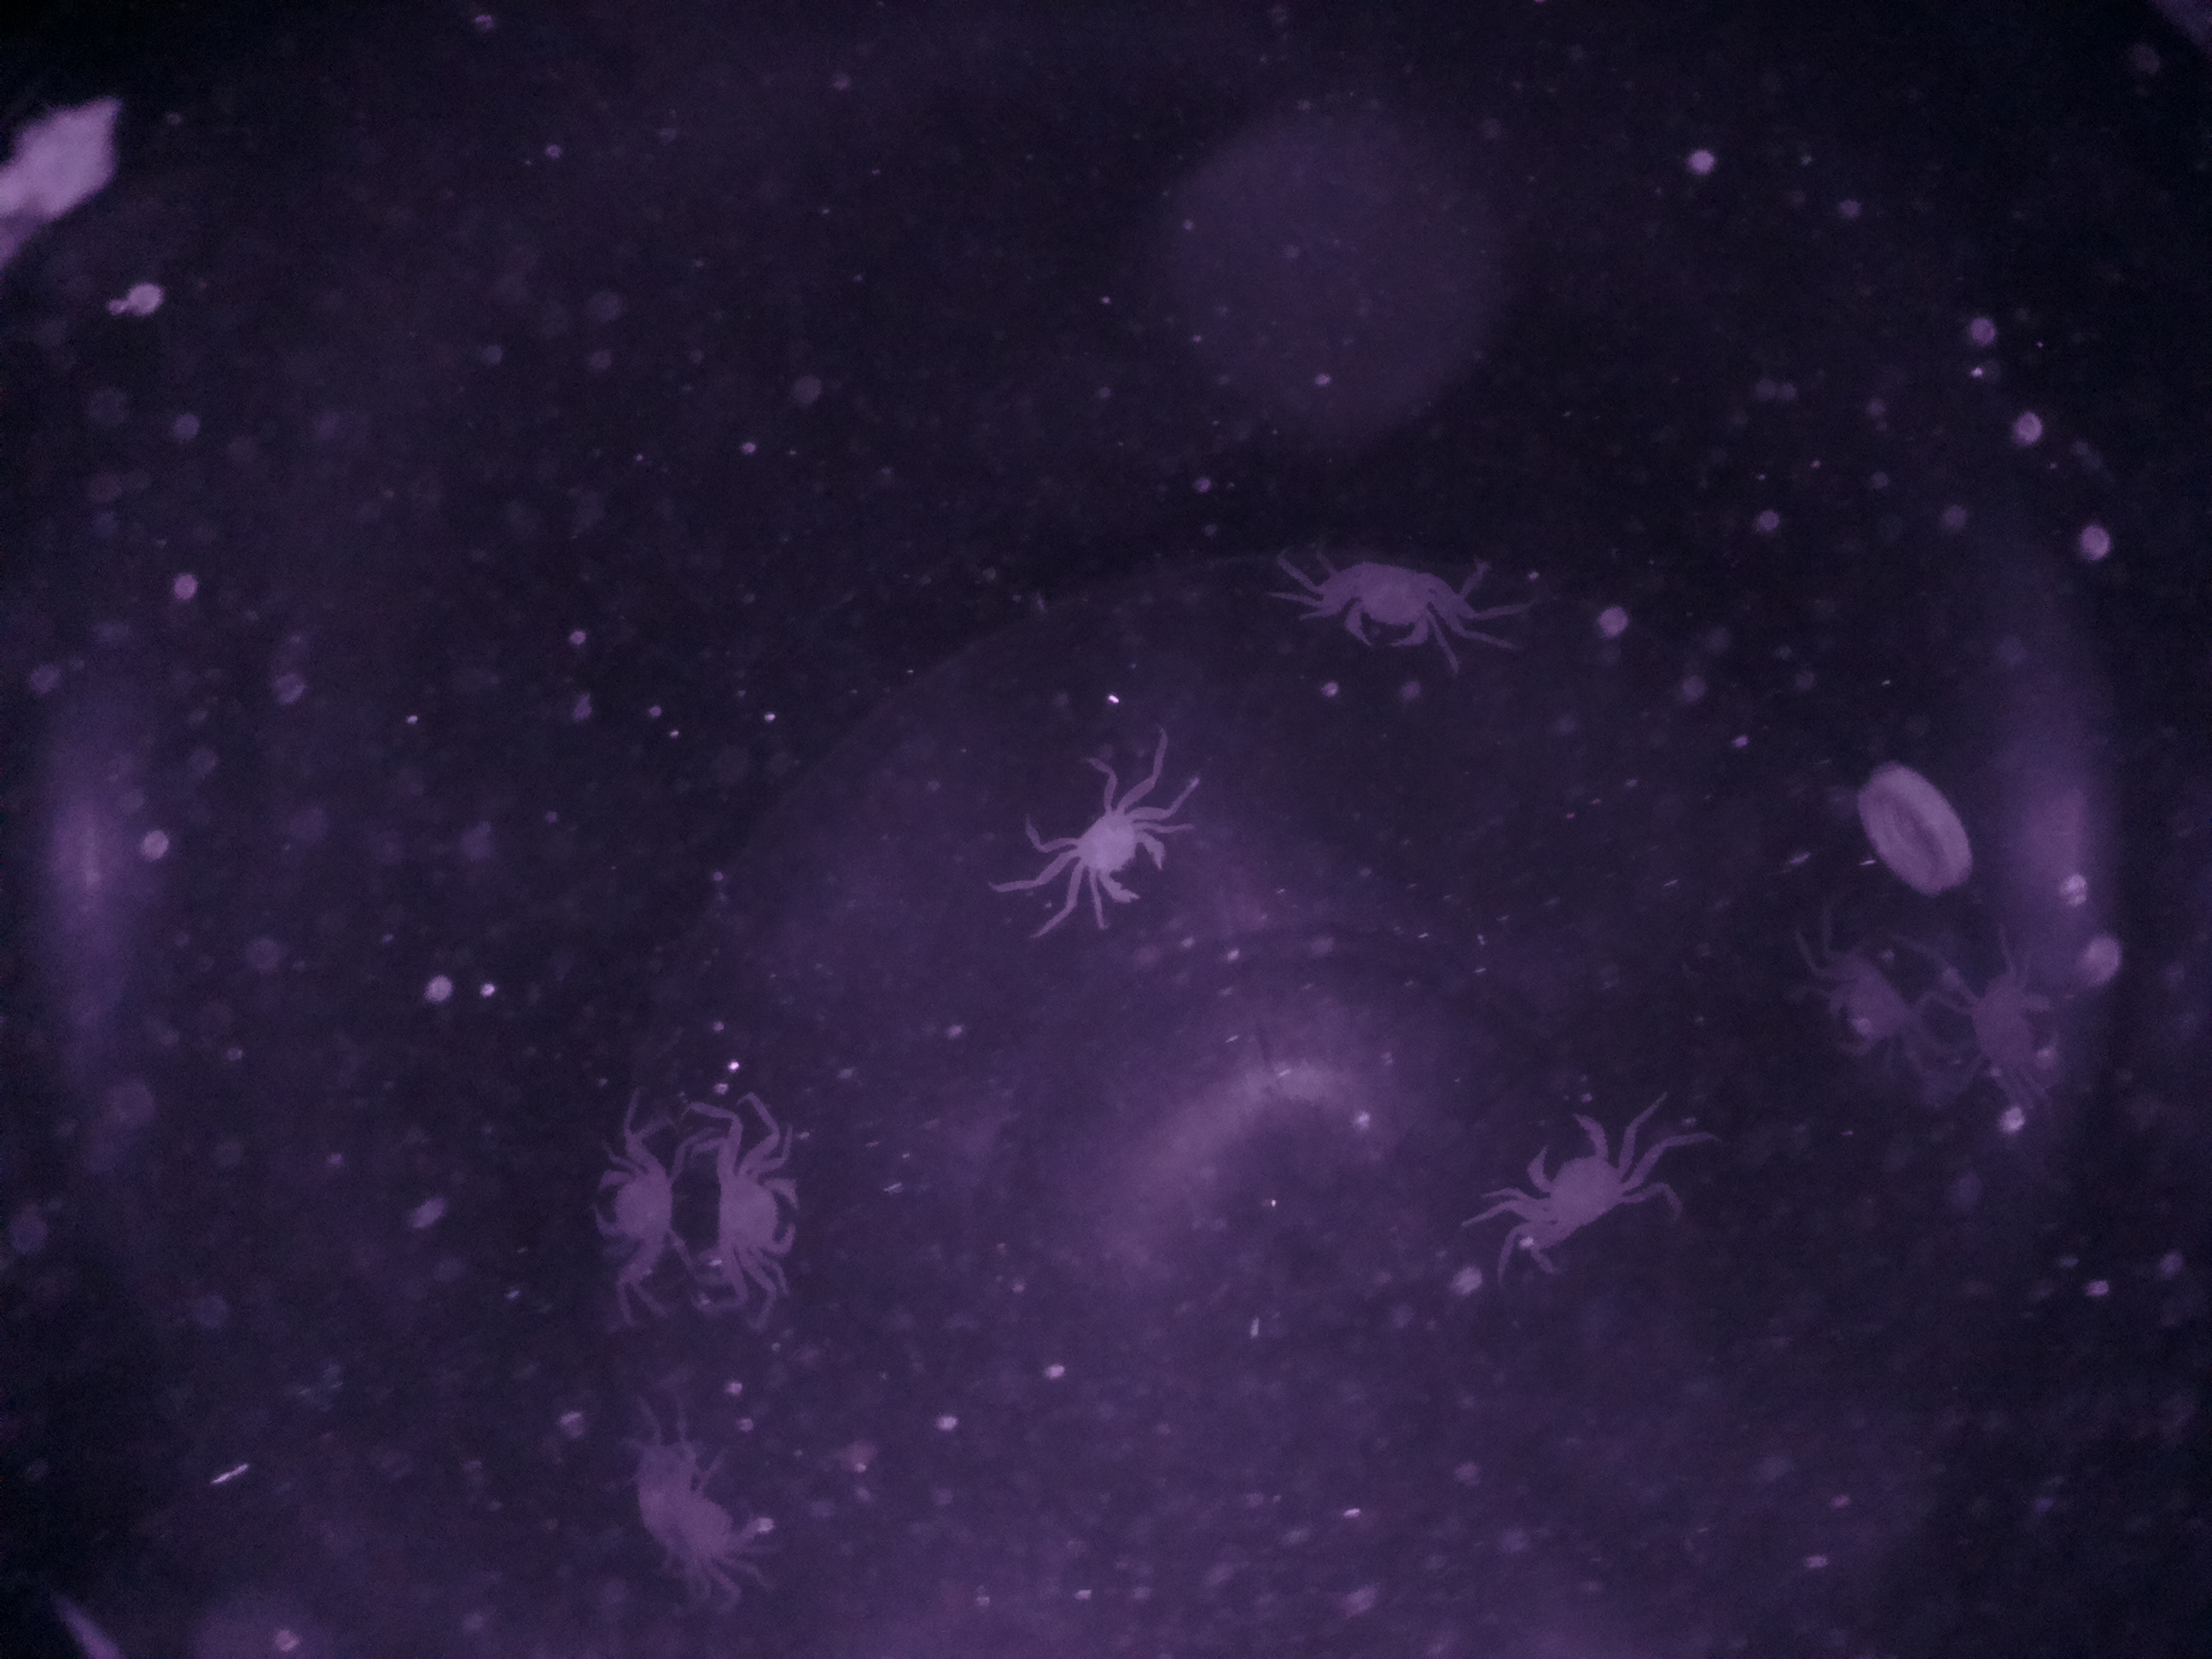Crab: (1498, 1094, 1642, 1270), (1310, 537, 1461, 666), (1054, 786, 1188, 927), (698, 1133, 813, 1293), (1794, 946, 1928, 1073), (573, 1140, 685, 1277)
